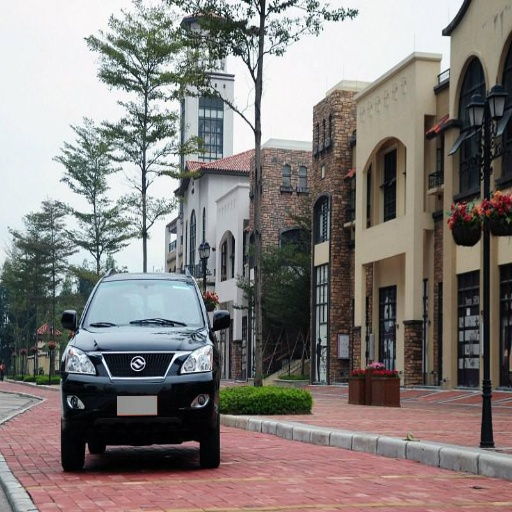back_right_light: (63, 351, 216, 439)
front_bumper: (85, 280, 203, 326)
front_left_door: (176, 345, 214, 375)
front_right_door: (65, 347, 96, 376)
front_right_light: (75, 324, 207, 352)
trunk: (63, 419, 100, 471), (199, 416, 218, 466)
